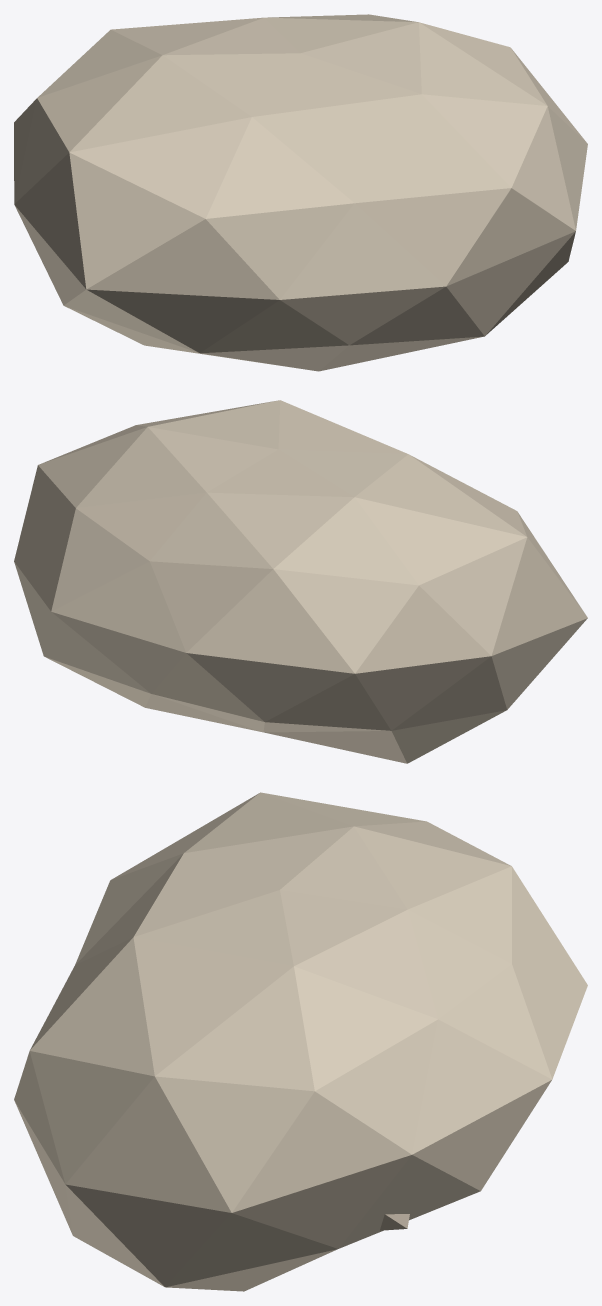
The model's file is campo_rock_granite_5.glb.
3 renders of one model, top to bottom at view 1: azimuth 30°, elevation 25°; view 2: azimuth 150°, elevation 25°; view 3: azimuth 270°, elevation 25°, orthographic. The views are drawn at different scales.
Parts seen in each view (by area): view 1: campo_rock_granite_5.glb; view 2: campo_rock_granite_5.glb; view 3: campo_rock_granite_5.glb.
Part boxes in pixels (box(x1,y1,x2,y2)): campo_rock_granite_5.glb: box(14, 14, 587, 371); campo_rock_granite_5.glb: box(14, 400, 587, 763); campo_rock_granite_5.glb: box(14, 792, 587, 1291).
Bounding box in the file's own units: 2.38 × 1.21 × 1.89.
